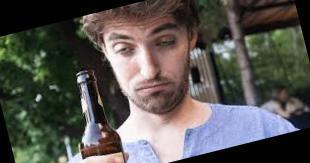Drunk: (106, 14, 190, 112)
